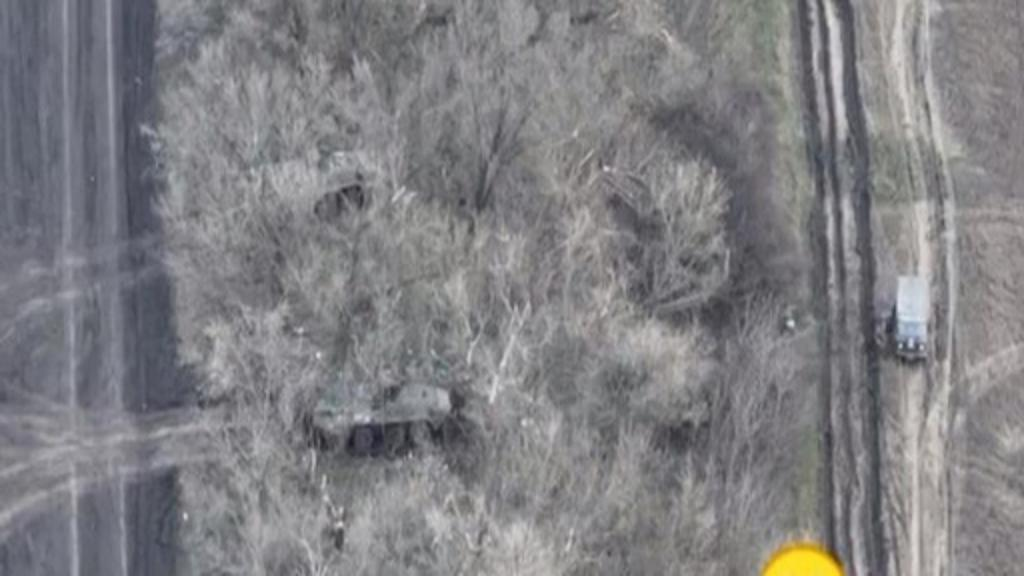APC-IFV: (228, 136, 394, 226), (298, 364, 462, 452)
CAR: (886, 256, 934, 362)
